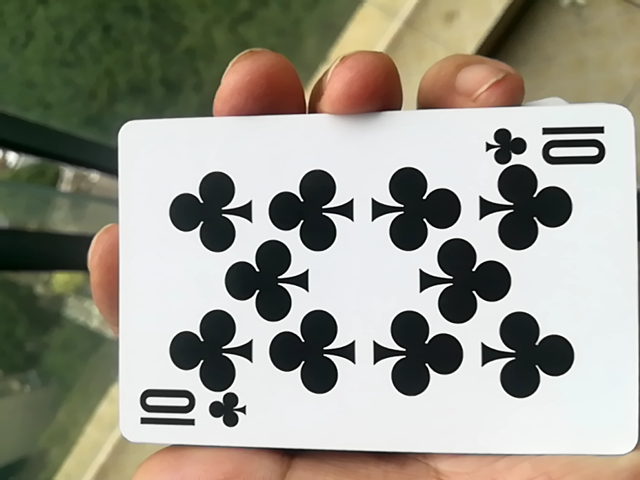mh 10: (108, 117, 635, 466)
